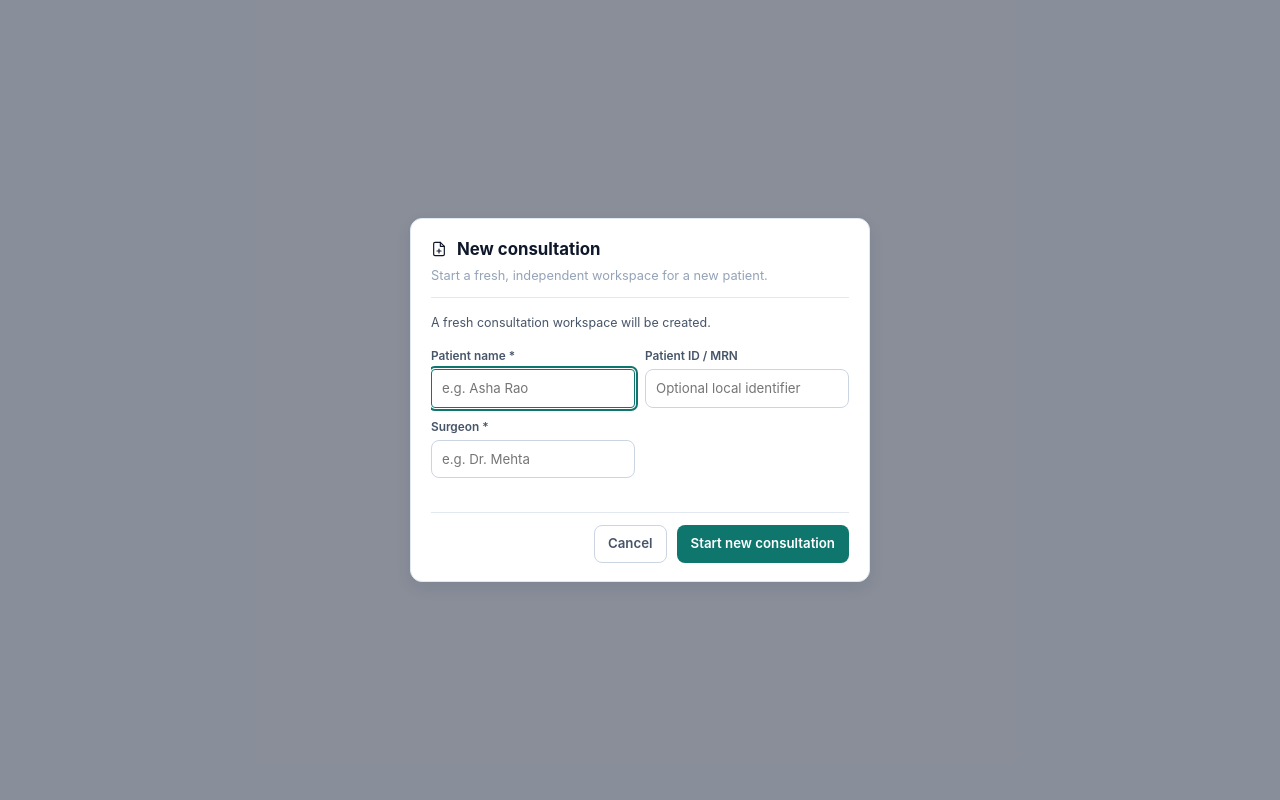
Test case: NewConsultationDialog › requires a patient name and surgeon
The image size is (1280, 800).
Click the button "Start new consultation" at (763, 544), box [676,526,849,563]
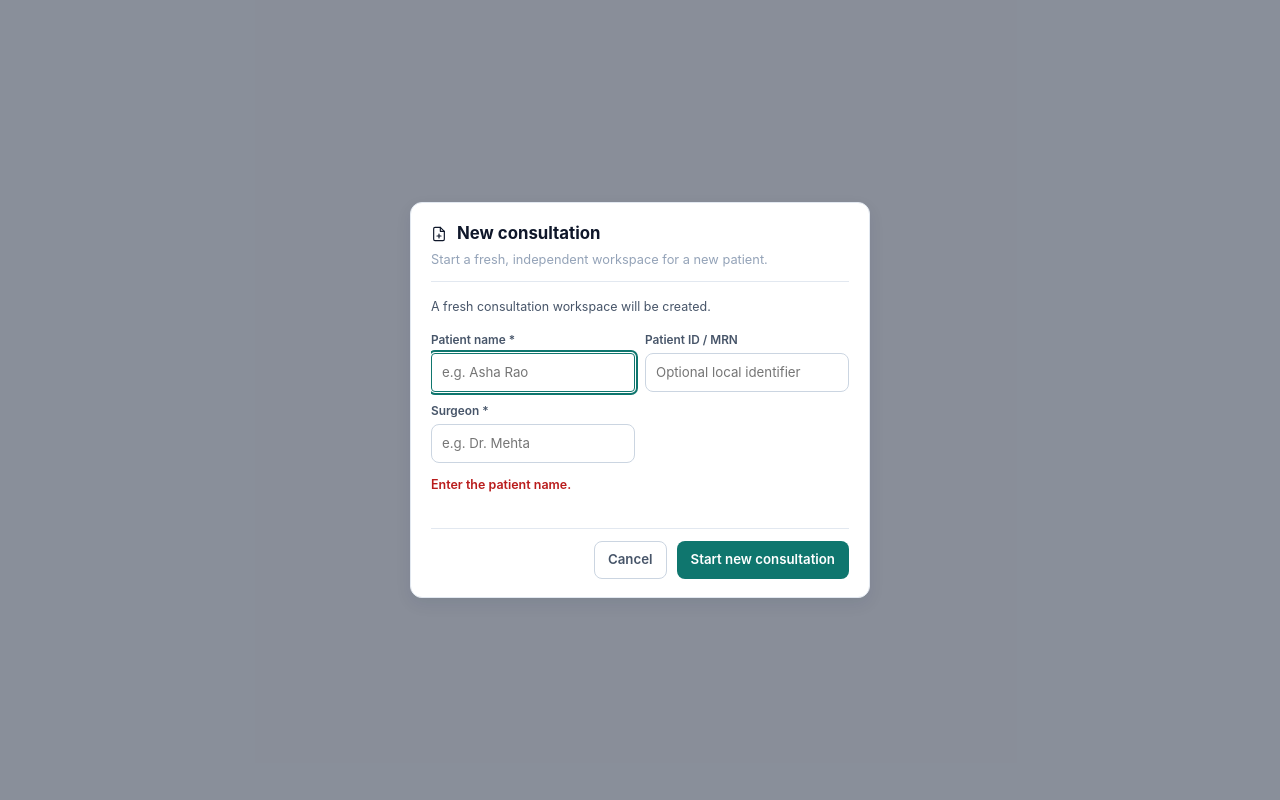
Check: the message reads "Enter the patient name.", box [431,477,571,492]
Type "Asha Rao" into the field labelled "Patient name *" at (533, 373), box [431,353,635,392]
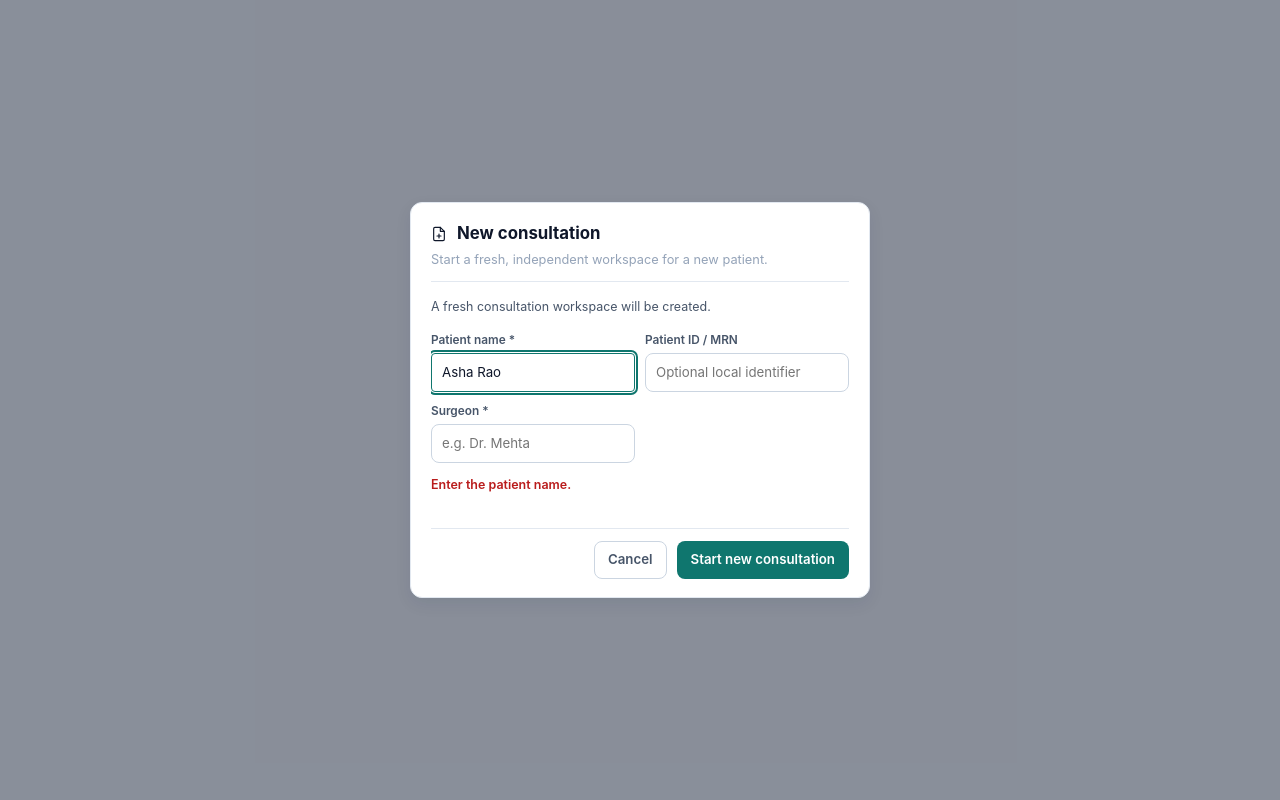
Click the button "Start new consultation" at (763, 560), box [676,541,849,579]
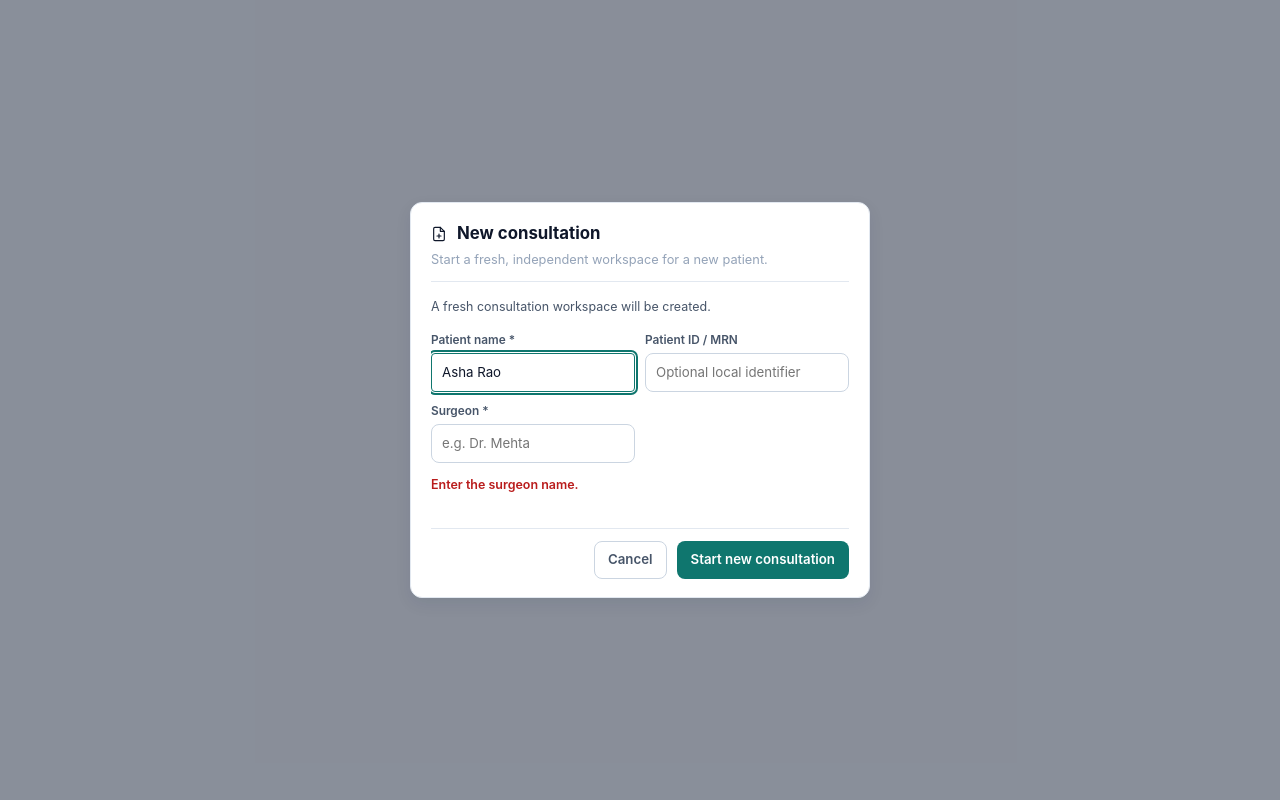
Check: the message reads "Enter the surgeon name.", box [431,477,579,492]
